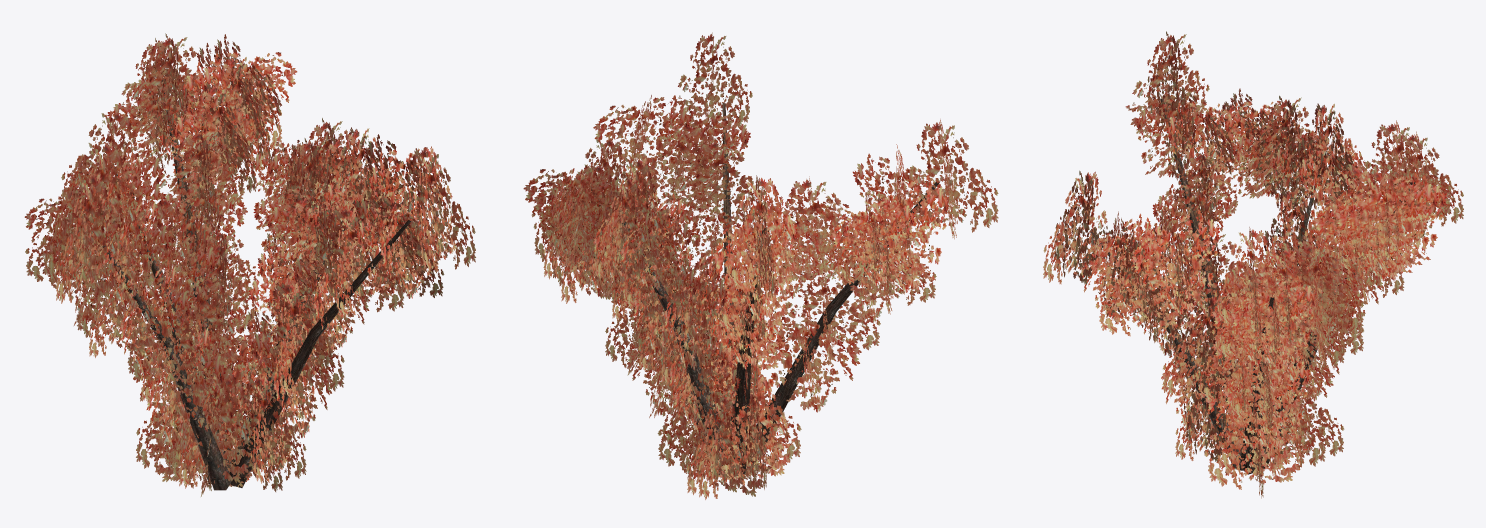
File: bush_3d_03_copper_lod1.glb
The picture shows the model from 3 angles, left to right: view 1: azimuth 30°, elevation 25°; view 2: azimuth 150°, elevation 25°; view 3: azimuth 270°, elevation 25°; orthographic projection. The views are drawn at different scales.
Parts seen in each view (by area): view 1: foliage_cards, wood_geometry; view 2: foliage_cards, wood_geometry; view 3: foliage_cards, wood_geometry.
Boxes of the visible parts, x1,y1,x2,y2 form: foliage_cards: (24,33,475,496); wood_geometry: (102,79,410,490); foliage_cards: (523,32,998,499); wood_geometry: (620,103,939,476); foliage_cards: (1043,31,1463,498); wood_geometry: (1089,98,1414,474).
Size of the model in its own units: 2.39 by 2.08 by 2.25.
Materials: 2 (2 with a texture image).
